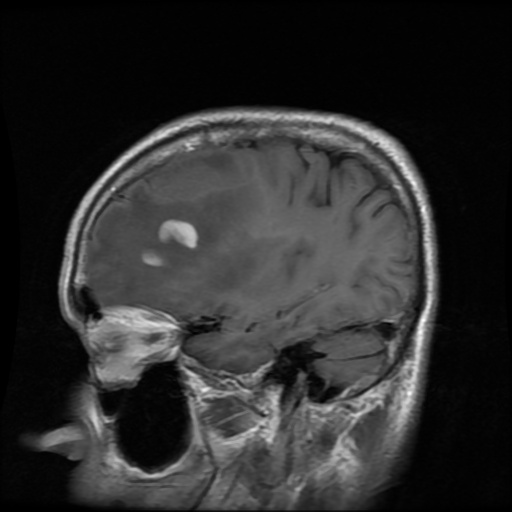glioma: (139, 220, 197, 269)
